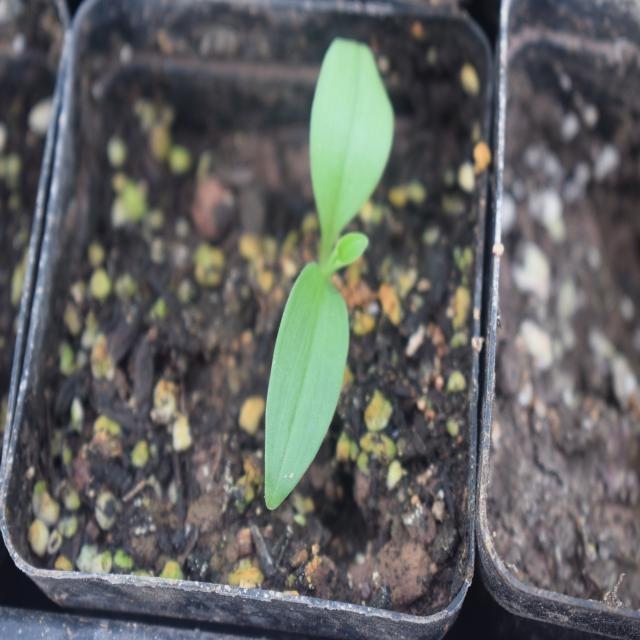Common Dayflower: (262, 48, 398, 510)
